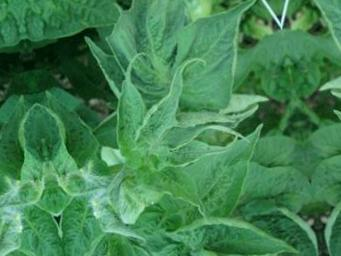Tomato leaf mosaic virus: (148, 0, 273, 121), (148, 121, 277, 232), (118, 57, 215, 151), (100, 55, 161, 165)
